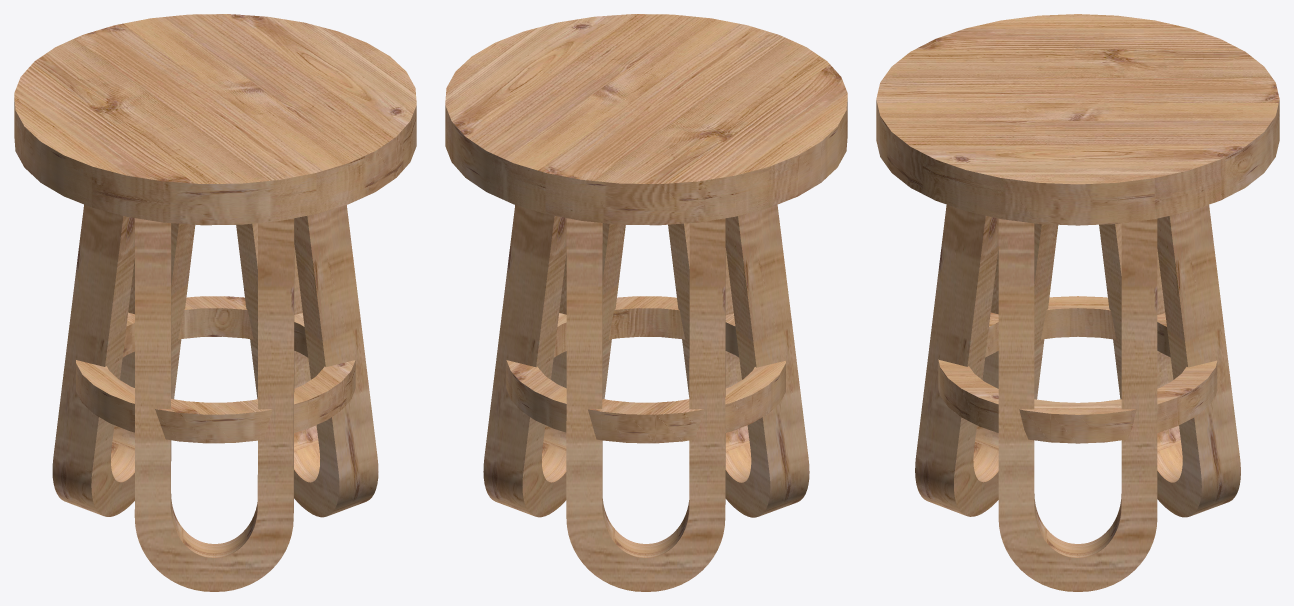
Rendered from myModel.obj.
3 views of the same model, side by side, from view 1: azimuth 30°, elevation 25°; view 2: azimuth 150°, elevation 25°; view 3: azimuth 270°, elevation 25° (orthographic).
Visible parts, largest first — view 1: Cylinder; view 2: Cylinder; view 3: Cylinder.
Part boxes in pixels (x1,y1,x2,y2): Cylinder: (14, 14, 416, 591); Cylinder: (445, 14, 847, 591); Cylinder: (876, 14, 1279, 591).
Bounding box in the file's own units: 0.3556 × 0.4222 × 0.3556.
Materials: 1 (1 with a texture image).
